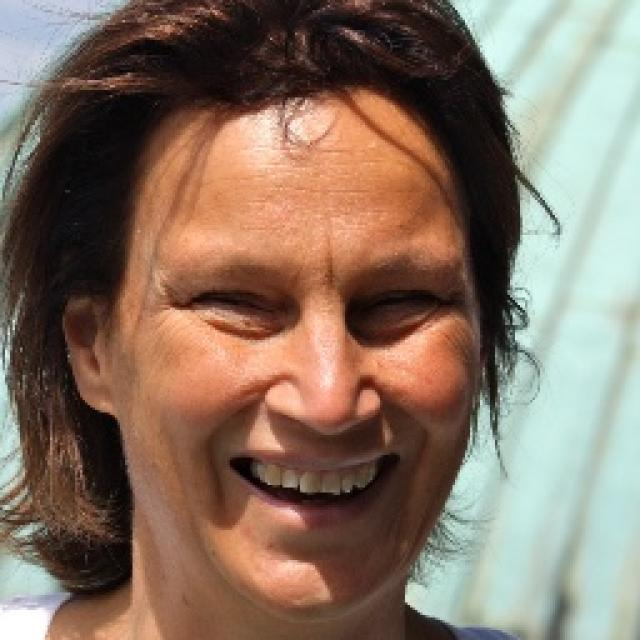earlobe: (79, 364, 113, 414)
eye: (191, 283, 280, 319), (352, 288, 442, 314)
nose: (262, 410, 384, 451)
wholeear: (61, 280, 113, 414)
